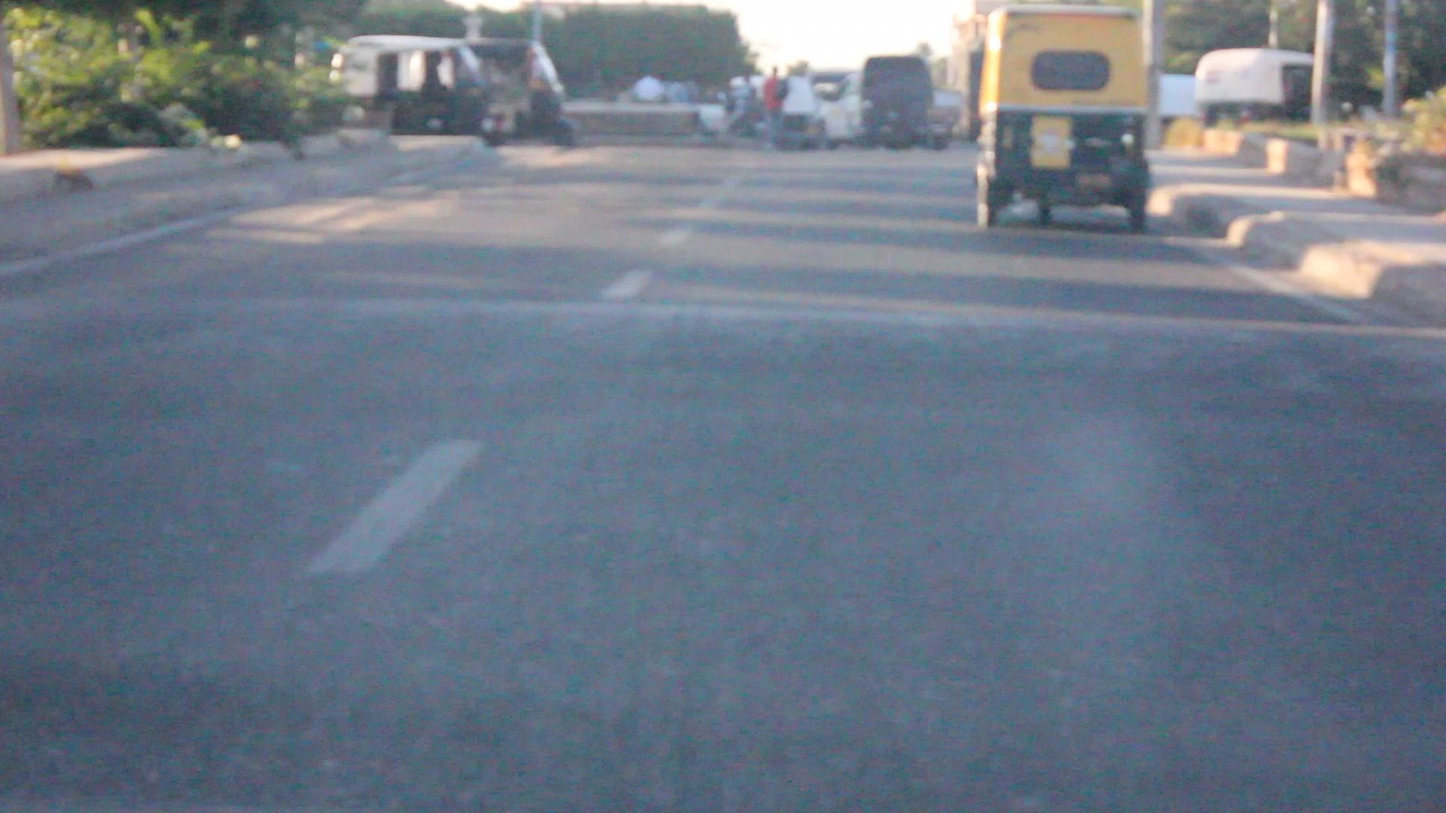Bump: (1, 286, 1445, 426)
